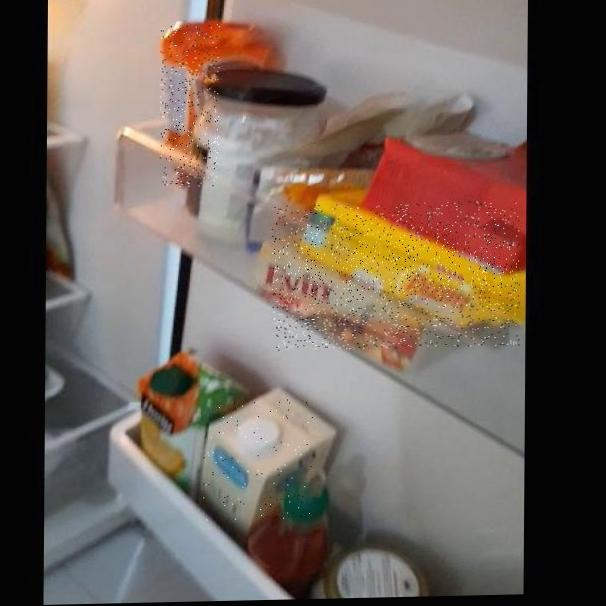butter: (272, 200, 521, 351)
juice: (136, 353, 198, 471)
milk: (203, 398, 313, 520)
sauce: (160, 24, 220, 187)
